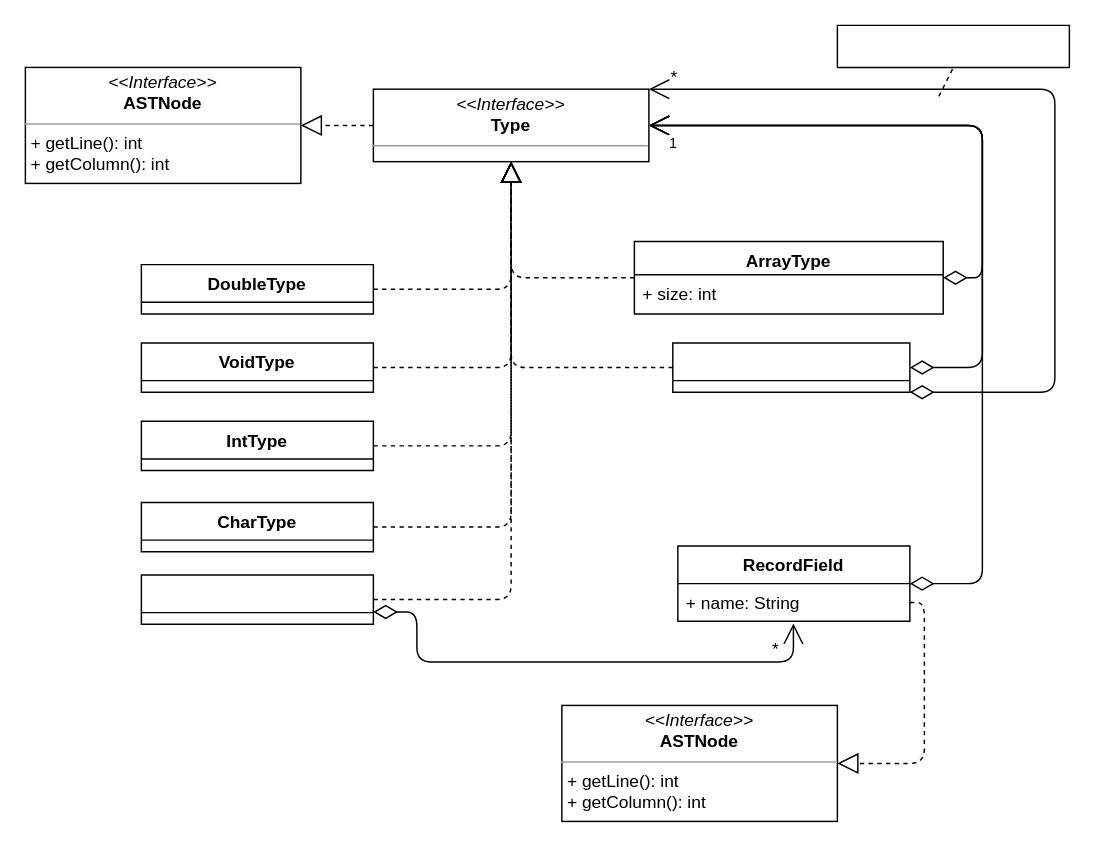
Some shapes in this 1105 by 847 pixel diagram are drawn without their labels. The centre of each missing label's shape, as x and y in pixels:
"FuncType" goes at (x=790, y=366).
"StructType" goes at (x=256, y=598).
"VarDefinition" goes at (x=952, y=45).
